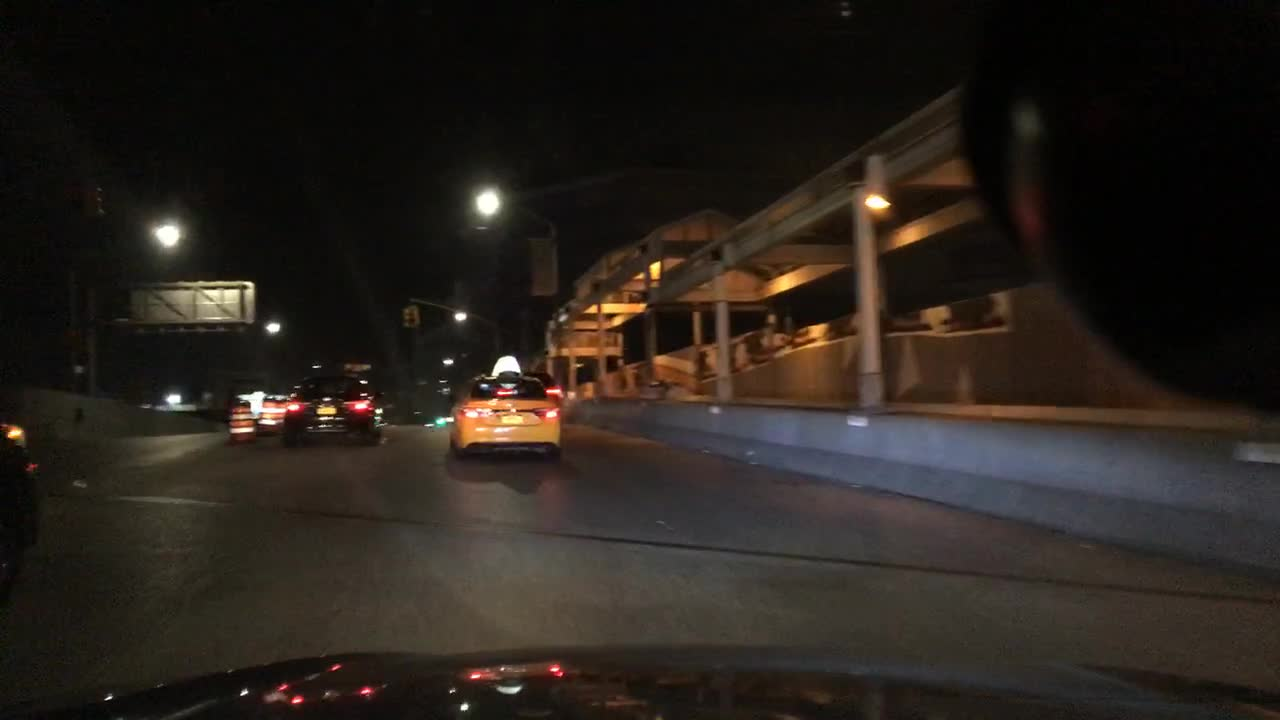car: (451, 354, 560, 459), (281, 371, 384, 442), (0, 421, 38, 606), (526, 370, 560, 403)
traffic light: (83, 179, 103, 215), (401, 305, 421, 326)
traffic sign: (131, 281, 254, 324)
